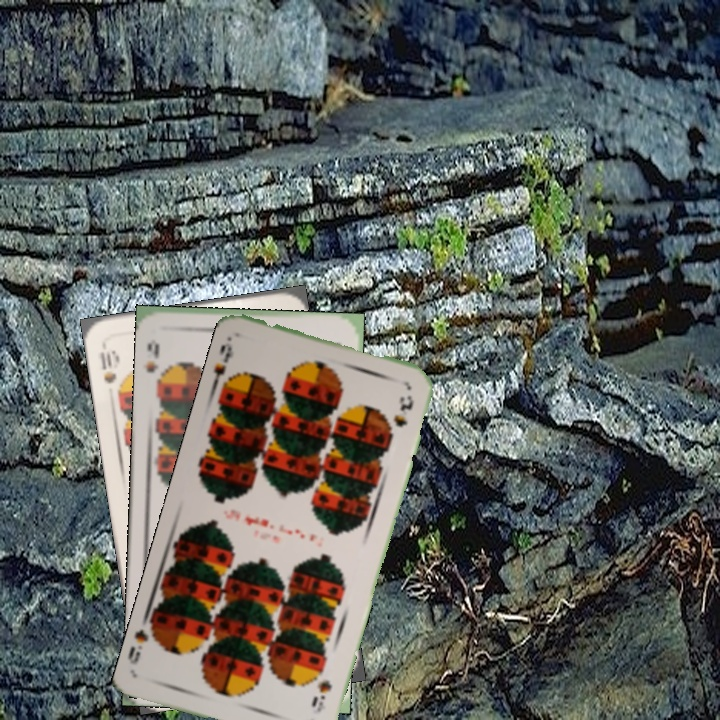S10: (96, 346, 120, 387)
S9: (207, 334, 237, 394), (141, 339, 168, 390), (307, 676, 335, 715)
